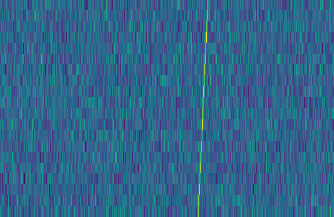signal: (193, 0, 213, 217)
